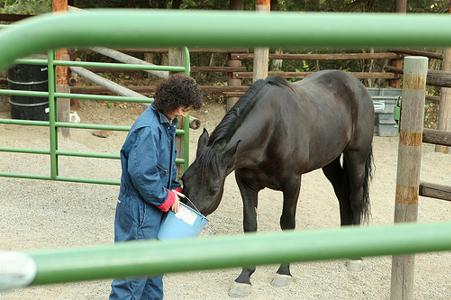person: (108, 73, 204, 300)
